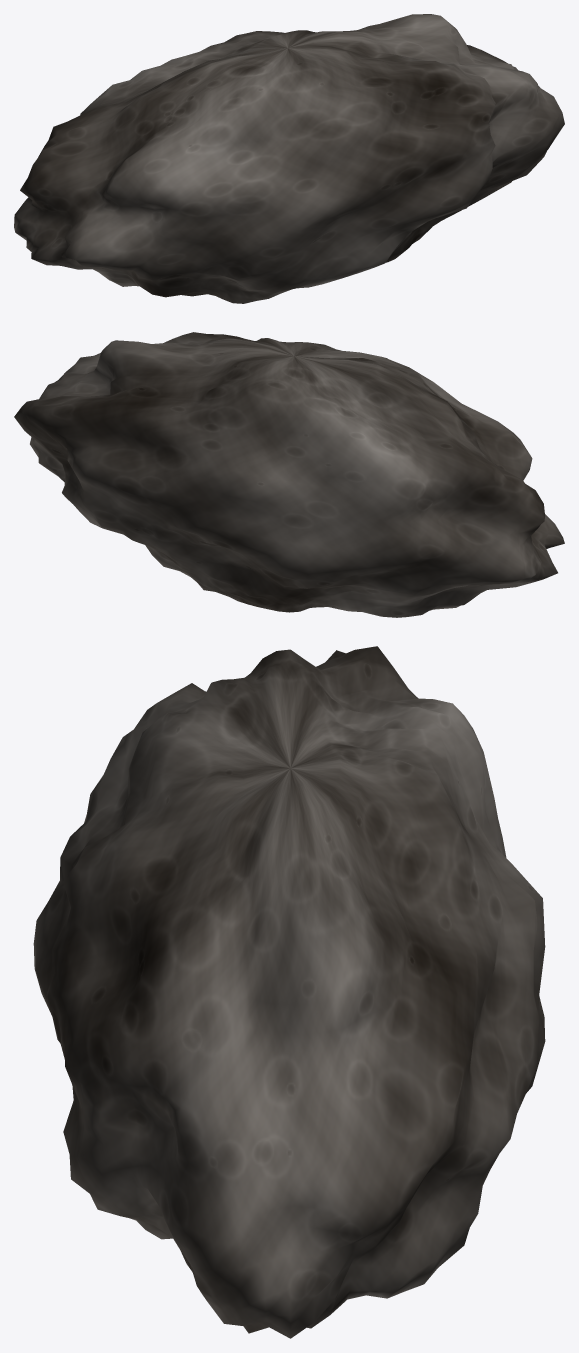
The model's file is asteroid-02.glb.
The picture shows the model from 3 angles, top to bottom: view 1: azimuth 30°, elevation 25°; view 2: azimuth 150°, elevation 25°; view 3: azimuth 270°, elevation 25°; orthographic projection. The views are drawn at different scales.
Parts seen in each view (by area): view 1: asteroid-02 | nucleus; view 2: asteroid-02 | nucleus; view 3: asteroid-02 | nucleus.
Part boxes in pixels (x1,y1,x2,y2): asteroid-02 | nucleus: (14, 14, 564, 303); asteroid-02 | nucleus: (14, 332, 564, 617); asteroid-02 | nucleus: (33, 646, 545, 1338).
Bounding box in the file's own units: 3.1 × 1.33 × 1.32.
1 material, 1 textured.
